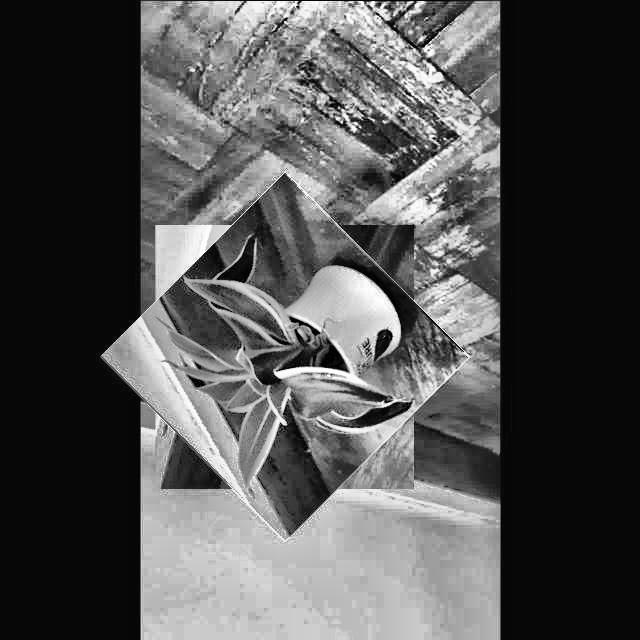plants: (127, 199, 442, 514)
